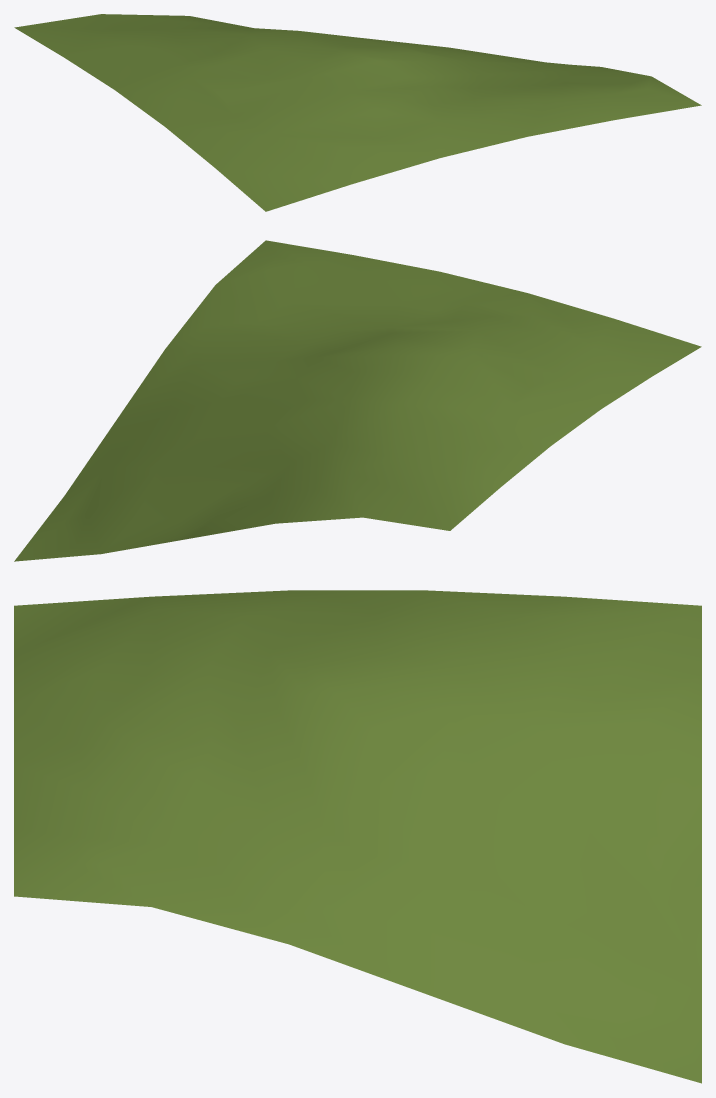
The model's file is rpgpp_ag_terrain_hill_03c_10x10m.fbx.
3 views of the same model, one above another, from view 1: azimuth 30°, elevation 25°; view 2: azimuth 150°, elevation 25°; view 3: azimuth 270°, elevation 25° (orthographic). The views are drawn at different scales.
Visible parts, largest first — view 1: rpgpp_ag_terrain_hill_03c_10x10m; view 2: rpgpp_ag_terrain_hill_03c_10x10m; view 3: rpgpp_ag_terrain_hill_03c_10x10m.
Boxes of the visible parts, box(x1,y1,x2,y2) form: rpgpp_ag_terrain_hill_03c_10x10m: box(14, 14, 701, 211); rpgpp_ag_terrain_hill_03c_10x10m: box(14, 240, 701, 561); rpgpp_ag_terrain_hill_03c_10x10m: box(14, 590, 701, 1083).
Bounding box in the file's own units: 10 × 3.7 × 10.
